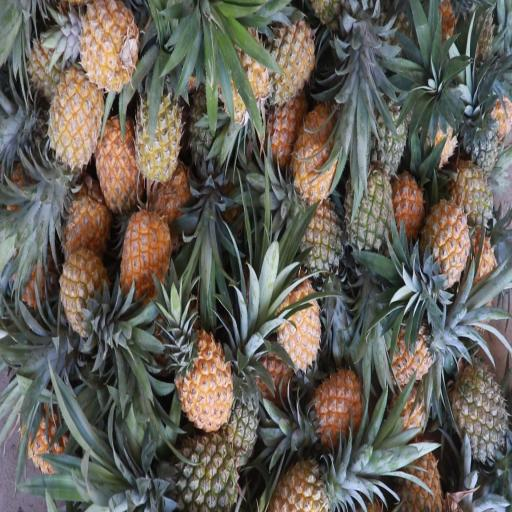------------------------------: (290, 170, 340, 288), (452, 140, 492, 225)
Pineapple - v8 v1: (37, 59, 103, 179), (284, 91, 343, 212), (166, 305, 229, 410), (299, 348, 361, 453), (130, 61, 186, 175), (49, 232, 106, 343), (262, 423, 331, 512), (112, 200, 170, 305), (413, 192, 471, 295), (92, 95, 143, 211), (74, 6, 138, 94), (369, 301, 433, 389), (274, 252, 320, 371), (261, 17, 313, 95)
